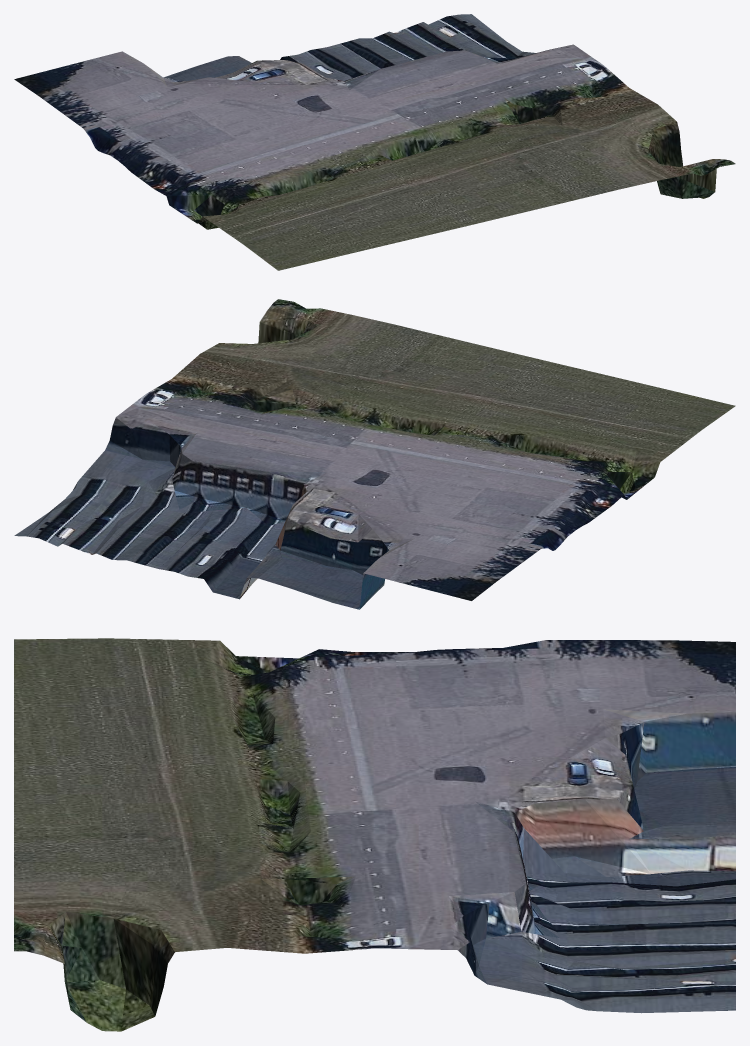
File: map_15_8187_13780.dae
The picture shows the model from 3 angles, top to bottom: view 1: azimuth 30°, elevation 25°; view 2: azimuth 150°, elevation 25°; view 3: azimuth 270°, elevation 25°; orthographic projection. The views are drawn at different scales.
Visible parts, largest first — view 1: Ter0; view 2: Ter0; view 3: Ter0.
Part boxes in pixels (<box>): Ter0: <box>14,14,735,270</box>; Ter0: <box>14,299,735,609</box>; Ter0: <box>14,638,735,1031</box>.
Size of the model in its own units: 63.87 by 63.88 by 8.6.
Materials: 2 (2 with a texture image).
